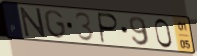0: (153, 17, 174, 49)
3: (74, 12, 95, 43)
9: (128, 16, 151, 47)
G: (43, 9, 68, 41)
N: (19, 7, 48, 39)
P: (97, 12, 121, 45)
